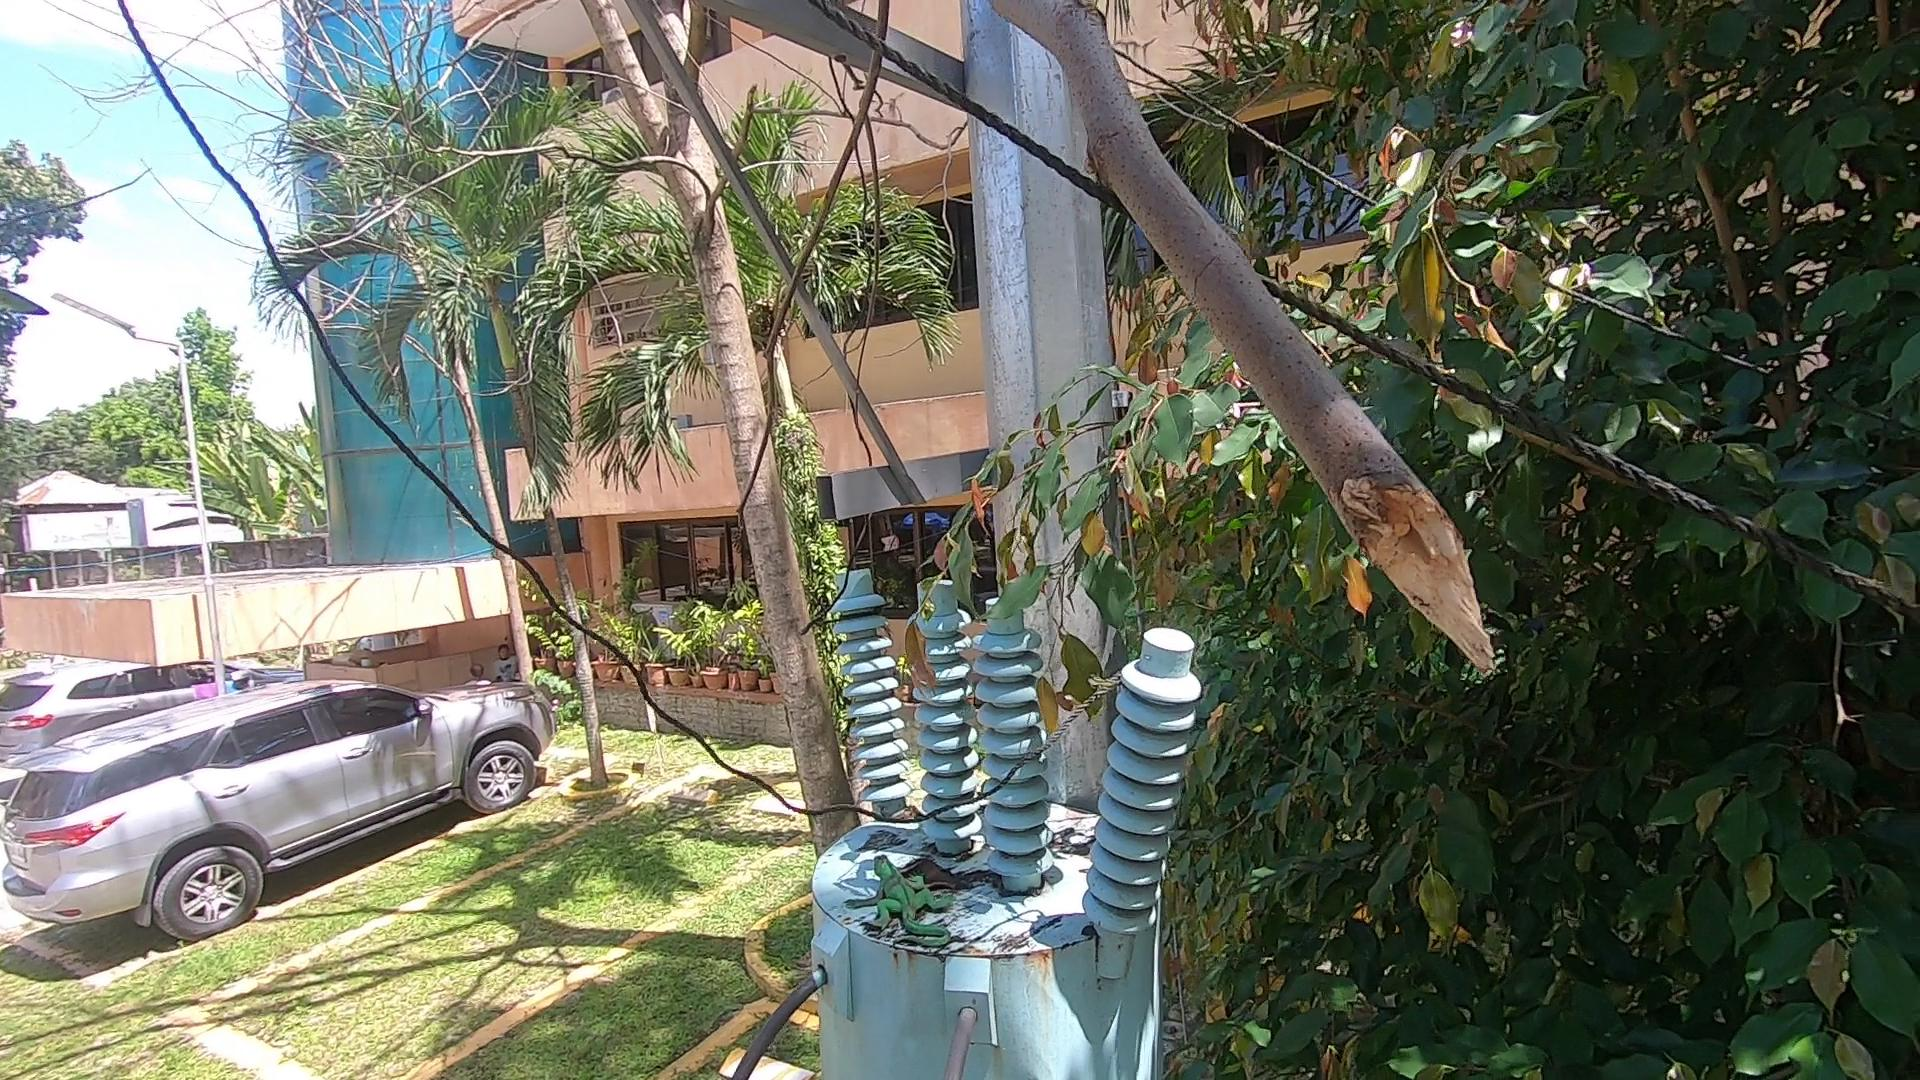branch with leaves: (895, 405, 1164, 764)
leaf: (902, 843, 978, 903), (1040, 822, 1101, 857), (872, 791, 919, 828)
tree branch: (942, 5, 1535, 709)
